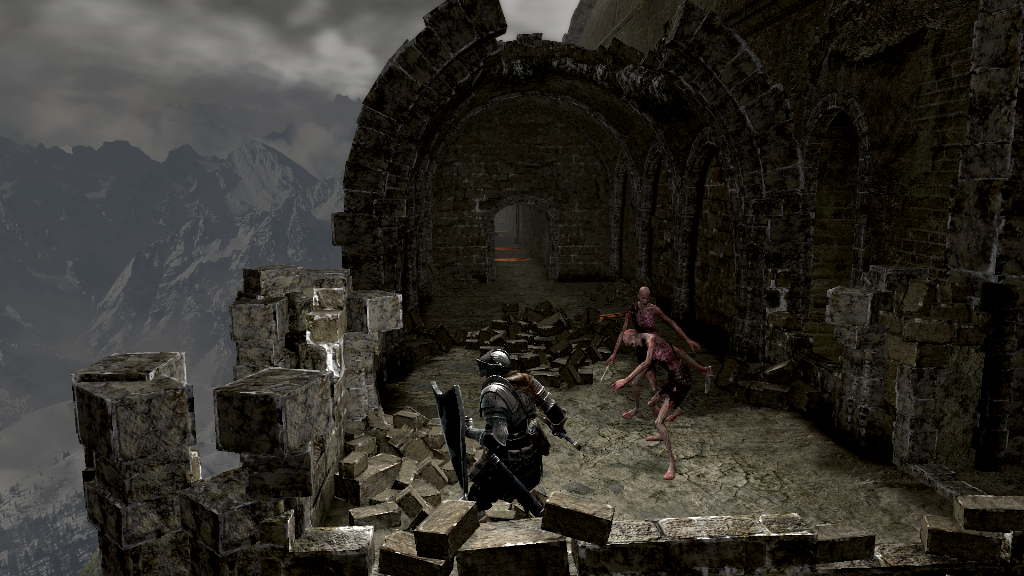hollow: (612, 328, 714, 485), (605, 285, 702, 421)
player: (429, 348, 586, 517)
